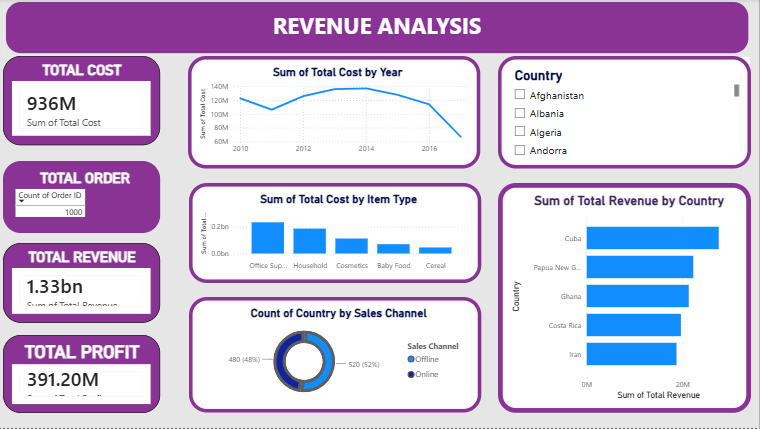

What the dashboard file says about the page in this screenshot:
{"tool":"powerbi","page":{"name":"dashboard","canvas":[1280,720],"ordinal":7},"visuals":[{"type":"textbox","box":[10.1,0,1258.2,62.2],"z":0},{"type":"cardVisual","title":"TOTAL ORDER","fields":{"Data":["CountNonNull(Data.Order ID)"]},"box":[10.1,102.5,263.7,129.3],"z":1000},{"type":"cardVisual","title":"TOTAL COST","fields":{"Data":["Sum(Data.Total Cost)"]},"box":[10.1,255.3,263.7,139.4],"z":2000},{"type":"cardVisual","title":"TOTAL PROFIT","fields":{"Data":["Sum(Data.Total Profit)"]},"box":[10.1,414.9,263.7,131],"z":3000},{"type":"cardVisual","title":"TOTAL REVENUE","fields":{"Data":["Sum(Data.Total Revenue)"]},"box":[10.1,556,263.7,139.4],"z":4000},{"type":"lineChart","fields":{"Category":["Data.Order Date.Variation.Date Hierarchy.Year"],"Y":["Sum(Data.Total Cost)"]},"box":[322.6,102.2,491,188.6],"z":5000},{"type":"donutChart","fields":{"Category":["Data.Sales Channel"],"Y":["CountNonNull(Data.Country)"]},"box":[322.6,501.1,491,194.4],"z":6000},{"type":"clusteredColumnChart","fields":{"Category":["Data.Item Type"],"Y":["Sum(Data.Total Cost)"]},"box":[322.6,309.6,491,168.5],"z":7000},{"type":"clusteredBarChart","fields":{"Category":["Data.Country"],"Y":["Sum(Data.Total Profit)"]},"box":[843.8,312.5,424.8,383],"z":8000},{"type":"slicer","fields":{"Values":["Data.Country"]},"box":[843.8,102.2,424.8,188.6],"z":10000}]}

Visuals, with their boxes in screenshot pixels (x1, y1, x2, y2), scaled from the page's 1280x720 canvas onto the 760x429 screenshot:
textbox: x1=6, y1=0, x2=753, y2=37
"TOTAL ORDER" cardVisual: x1=6, y1=61, x2=163, y2=138
"TOTAL COST" cardVisual: x1=6, y1=152, x2=163, y2=235
"TOTAL PROFIT" cardVisual: x1=6, y1=247, x2=163, y2=325
"TOTAL REVENUE" cardVisual: x1=6, y1=331, x2=163, y2=414
lineChart - Data.Order Date.Variation.Date Hierarchy.Year x Sum(Data.Total Cost): x1=192, y1=61, x2=483, y2=173
donutChart - Data.Sales Channel x CountNonNull(Data.Country): x1=192, y1=299, x2=483, y2=414
clusteredColumnChart - Data.Item Type x Sum(Data.Total Cost): x1=192, y1=184, x2=483, y2=285
clusteredBarChart - Data.Country x Sum(Data.Total Profit): x1=501, y1=186, x2=753, y2=414
slicer - Data.Country: x1=501, y1=61, x2=753, y2=173
